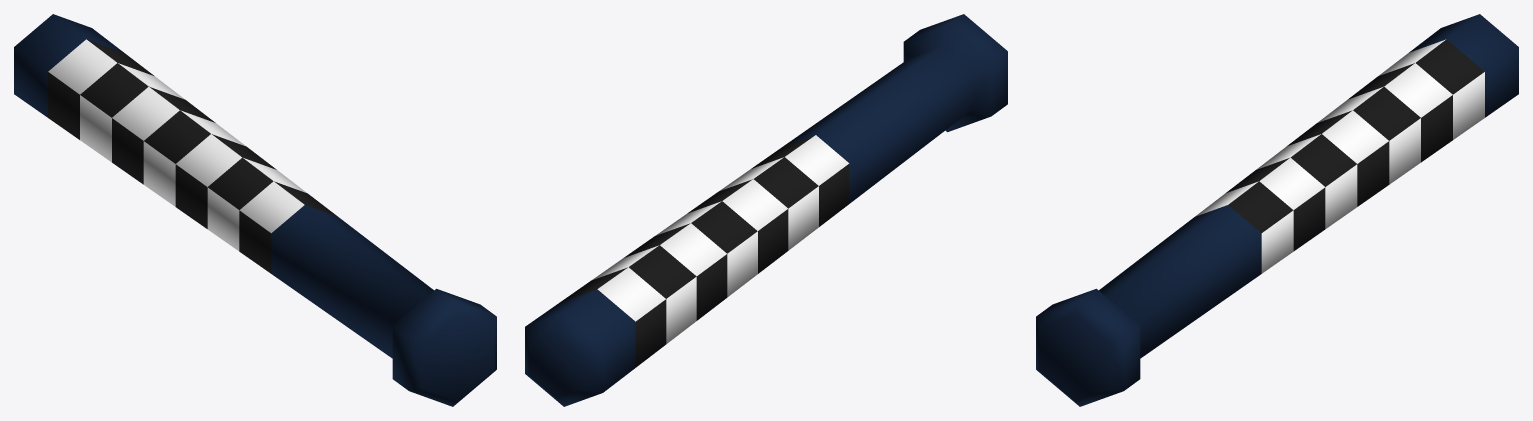
The model's file is Police_Club.fbx.
The picture shows the model from 3 angles, left to right: view 1: azimuth 30°, elevation 25°; view 2: azimuth 150°, elevation 25°; view 3: azimuth 330°, elevation 25°; orthographic projection.
Visible parts, largest first — view 1: Police_Club; view 2: Police_Club; view 3: Police_Club.
Boxes of the visible parts, left/top/right/bottom form: Police_Club: left=14, top=14, right=496, bottom=406; Police_Club: left=525, top=14, right=1007, bottom=406; Police_Club: left=1036, top=14, right=1518, bottom=406.
Bounding box in the file's own units: 0.1131 × 0.1306 × 0.9219.
